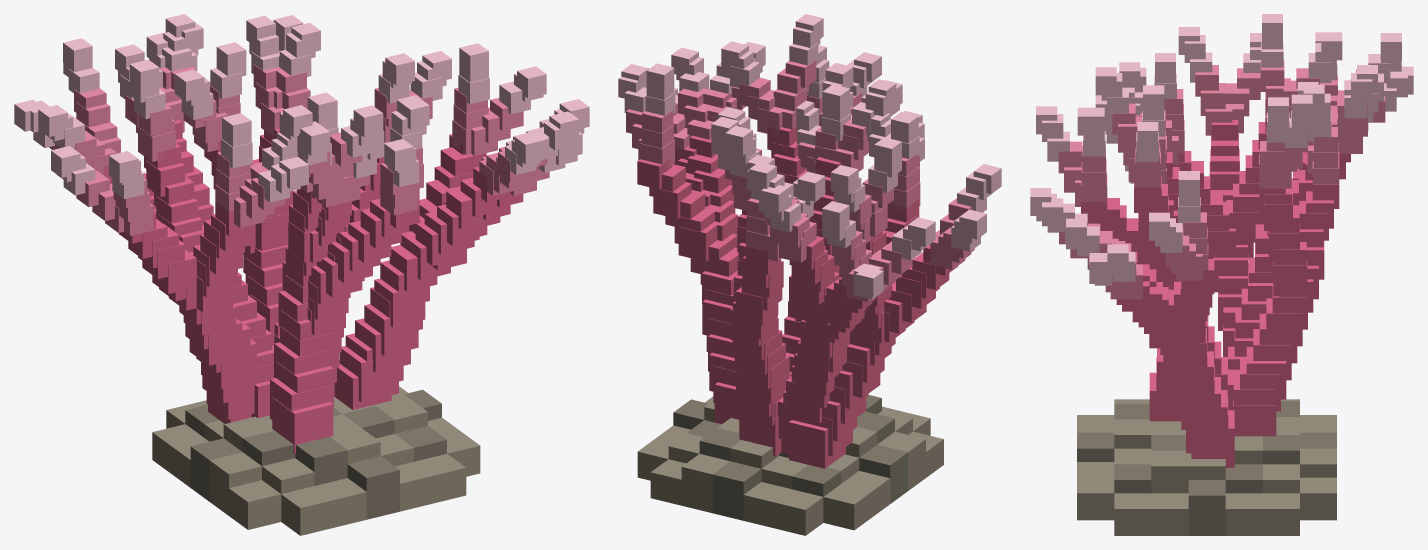
Rendered from CoralStaghorn_Medium.obj.
3 views of the same model, side by side, from view 1: azimuth 30°, elevation 25°; view 2: azimuth 150°, elevation 25°; view 3: azimuth 270°, elevation 25° (orthographic). The views are drawn at different scales.
Visible parts, largest first — view 1: CoralStaghorn_Medium; view 2: CoralStaghorn_Medium; view 3: CoralStaghorn_Medium.
Part boxes in pixels (x1,y1,x2,y2): CoralStaghorn_Medium: (14,14,589,535); CoralStaghorn_Medium: (618,14,1001,535); CoralStaghorn_Medium: (1030,14,1413,535).
Bounding box in the file's own units: 3.42 × 3.15 × 2.58.
1 material, 1 textured.
